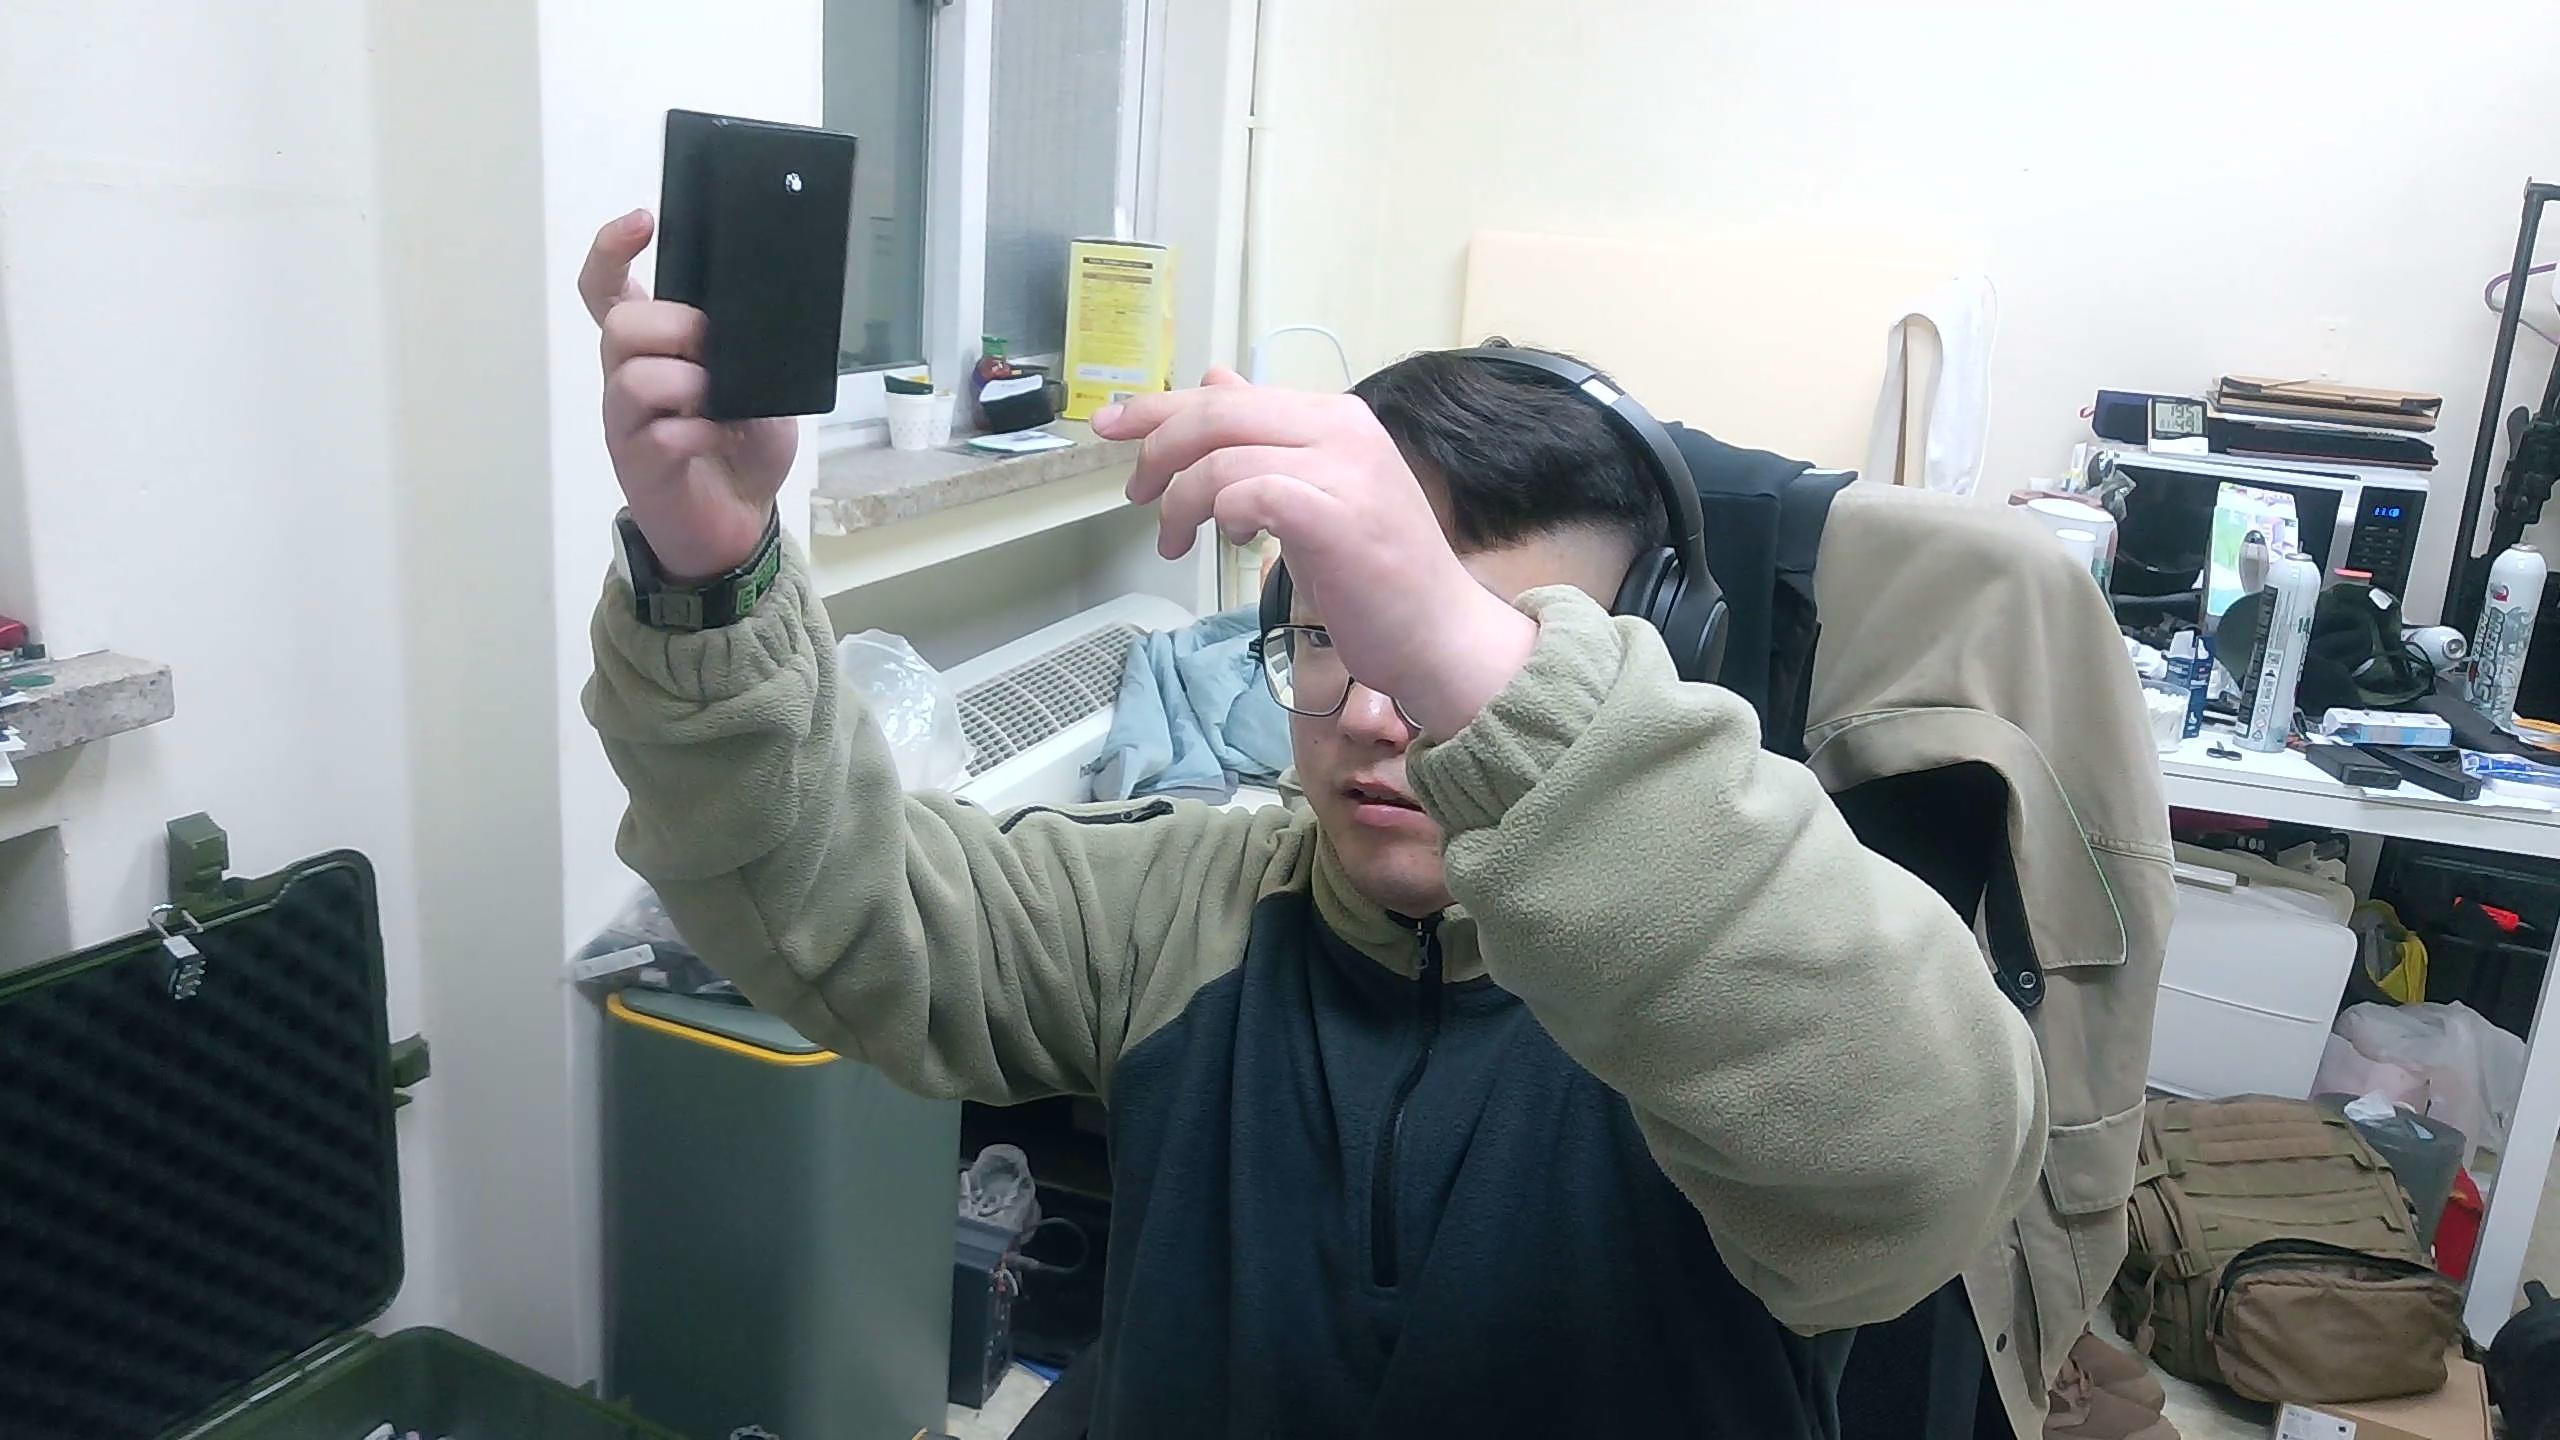earphone: (654, 105, 863, 424)
